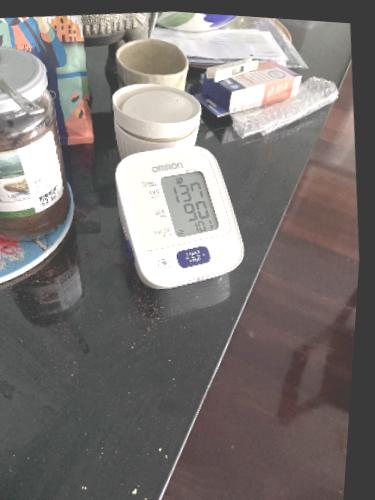bpm: (158, 164, 221, 243)
